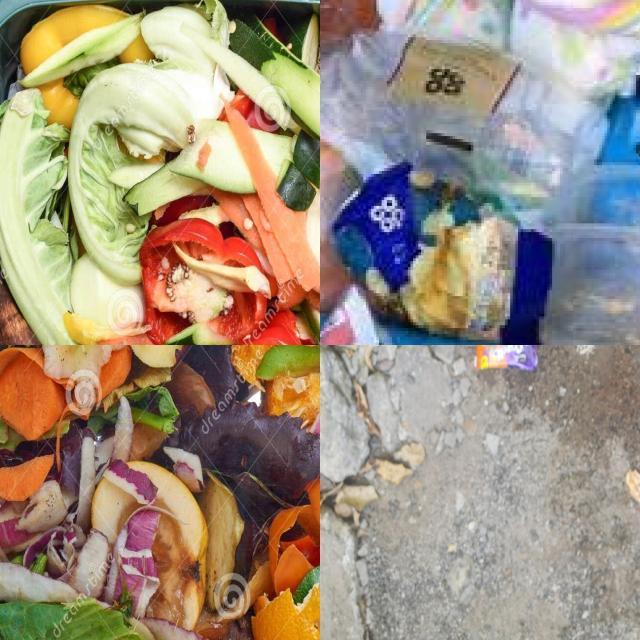Background: (320, 345, 640, 640)
Garbage: (320, 0, 640, 345), (0, 345, 320, 640)
Plastic_Bag: (591, 166, 640, 228)
Plastic_Container: (540, 224, 640, 345)
Plastic_wraper: (320, 32, 605, 228), (333, 162, 518, 339), (599, 75, 640, 165), (476, 345, 536, 371)
